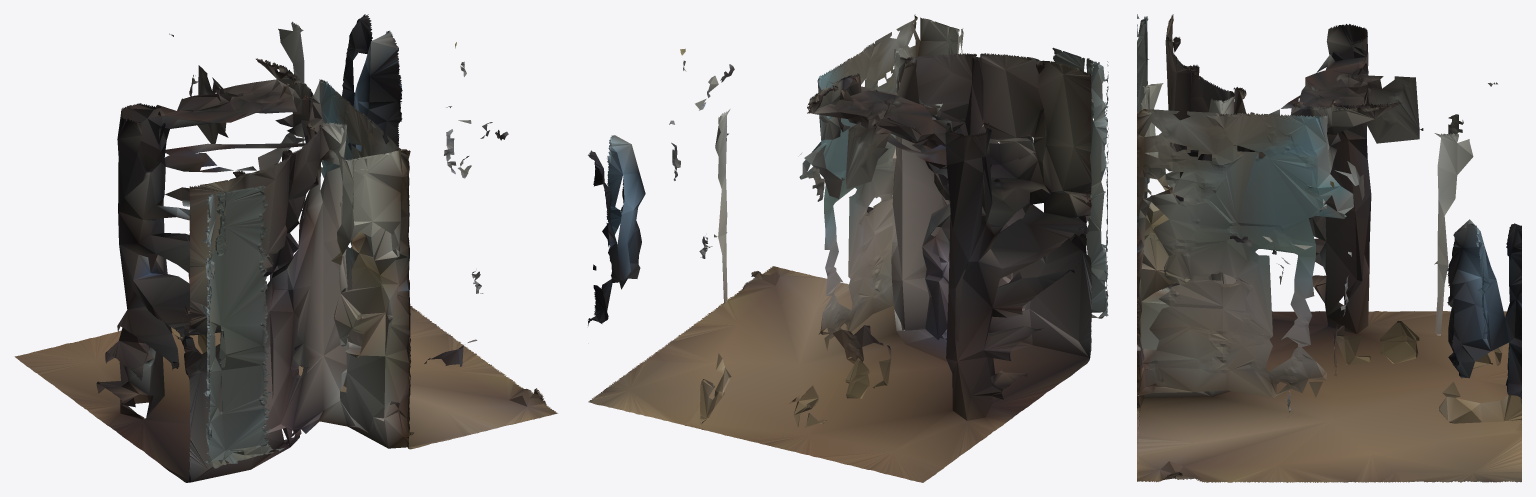
Rendered from coarse.glb.
The picture shows the model from 3 angles, left to right: view 1: azimuth 30°, elevation 25°; view 2: azimuth 150°, elevation 25°; view 3: azimuth 270°, elevation 25°; orthographic projection. The views are drawn at different scales.
Bounding box in the file's own units: 1.99 × 1.65 × 1.91.
